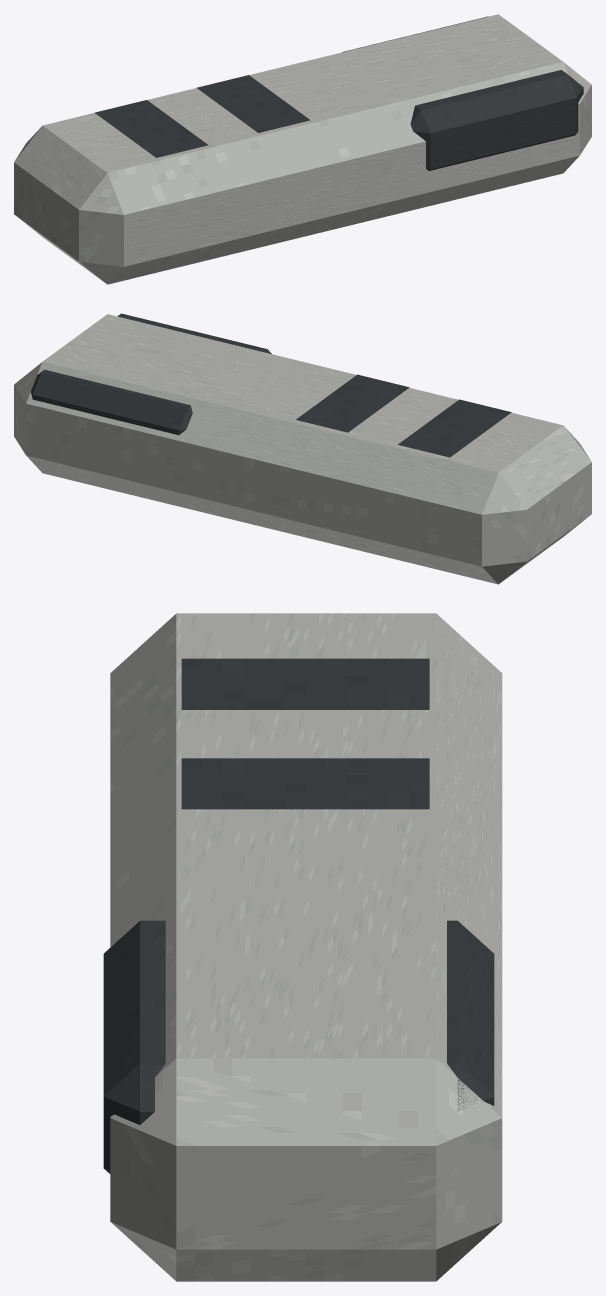
The model's file is knife_sharpener_handheld.glb.
The picture shows the model from 3 angles, top to bottom: view 1: azimuth 30°, elevation 25°; view 2: azimuth 150°, elevation 25°; view 3: azimuth 270°, elevation 25°; orthographic projection. The views are drawn at different scales.
Parts seen in each view (by area): view 1: block_two-slot sharpener, block_soft grip, block_grit slot (×2); view 2: block_two-slot sharpener, block_grit slot (×2), block_soft grip; view 3: block_two-slot sharpener, block_grit slot (×2), block_soft grip.
Part boxes in pixels (x1,y1,x2,y2): block_two-slot sharpener: (14,14,591,284); block_soft grip: (342,16,583,170); block_grit slot (×2): (95,75,310,157); block_two-slot sharpener: (14,314,591,584); block_grit slot (×2): (296,374,511,457); block_soft grip: (31,313,271,435); block_two-slot sharpener: (110,613,502,1281); block_grit slot (×2): (181,658,429,809); block_soft grip: (103,920,494,1173).
Size of the model in its own units: 0.2 by 0.0423 by 0.0673.
Materials: 1 (1 with a texture image).
